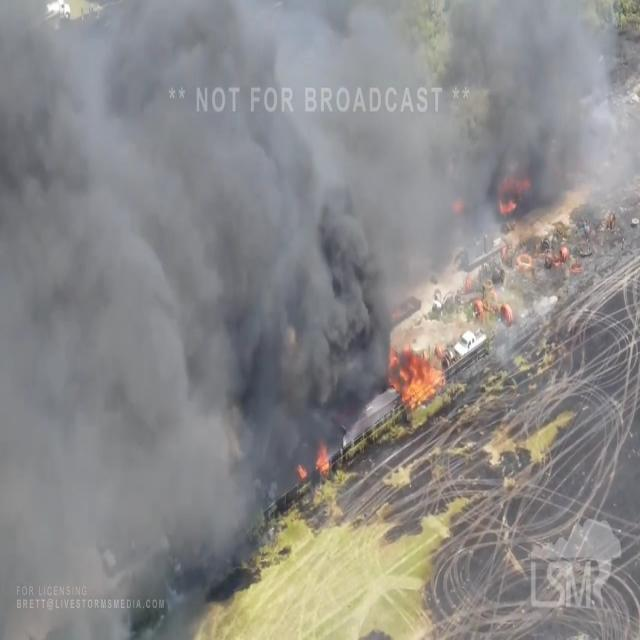Fire: (393, 356, 443, 414)
Smoke: (4, 7, 292, 560), (306, 191, 378, 389)
